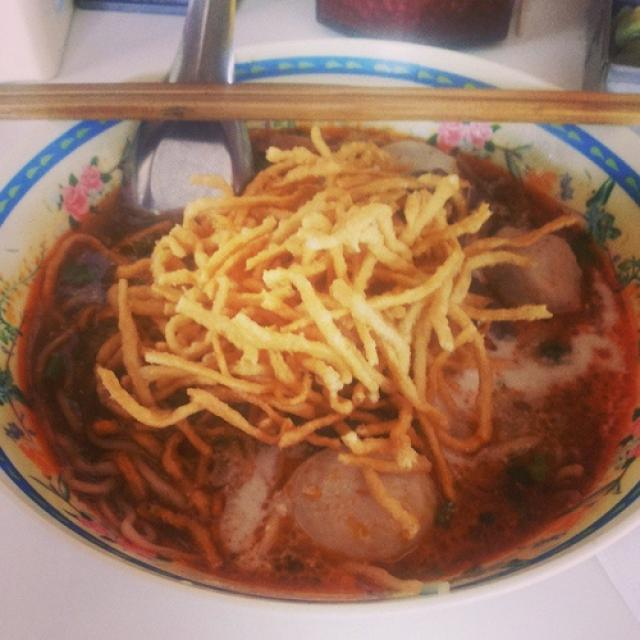面条主食: (44, 90, 602, 572)
